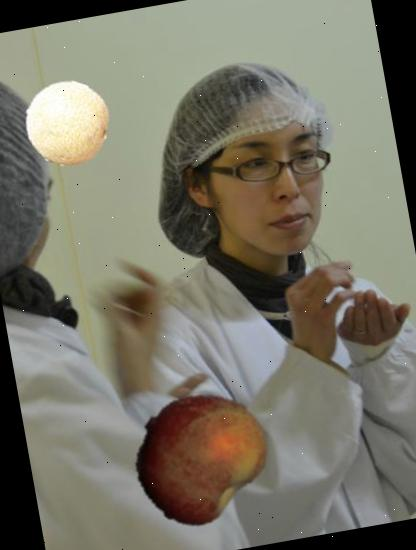Cantaloupe: (18, 74, 115, 171)
Nectarine: (117, 375, 277, 536)
